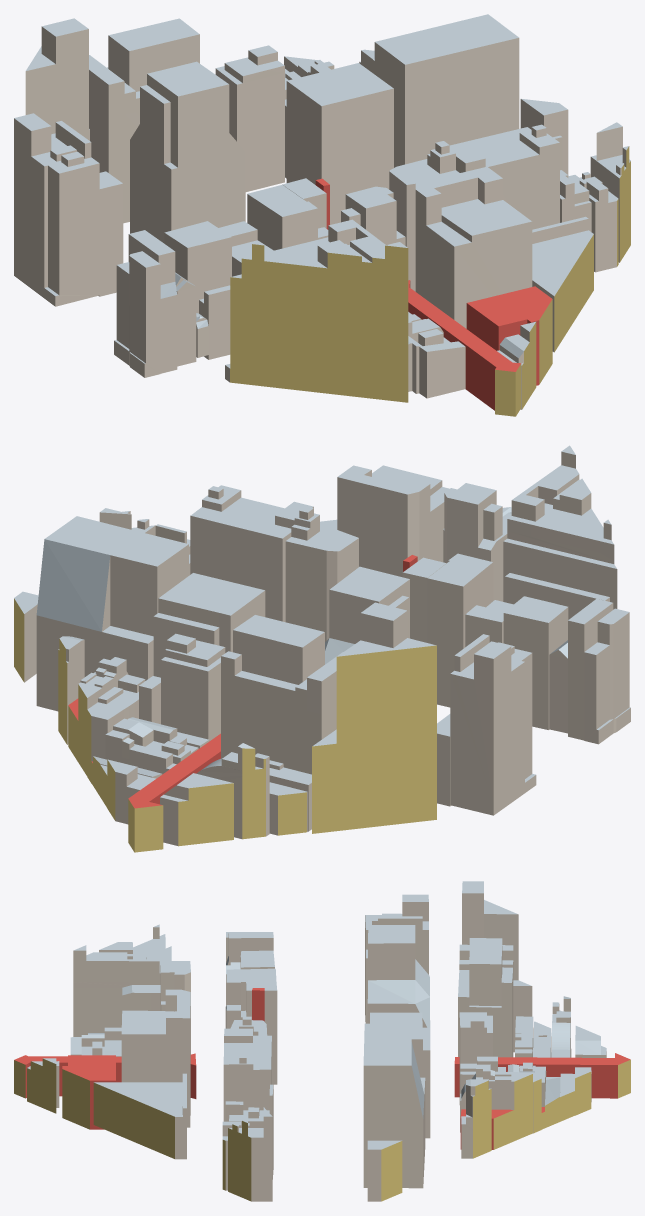
Rendered from dotonbori-focus.glb.
3 views of the same model, one above another, from view 1: azimuth 30°, elevation 25°; view 2: azimuth 150°, elevation 25°; view 3: azimuth 270°, elevation 25° (orthographic). The views are drawn at different scales.
Visible parts, largest first — view 1: B066 canal focus bldg_20a34d49-7e67-48bc-a3f4-12e5d8d8c5e1, B034 canal focus bldg_6b39f217-6938-46f4-be4f-b63dadaf6e73, B092 canal focus bldg_62a12ed7-ad07-4a43-8a33-c8720026bbaa, B036 canal focus bldg_e95a0f5f-11e1-46f8-b5da-37619d297fc4, B055 canal focus bldg_081a1c94-4b22-4245-b41d-bce24cdd94d1, B031 canal focus bldg_20d649b2-8ed9-4907-8d04-ad66a6952df4, B023 canal focus bldg_ee83e0d9-4ba0-4a72-bec8-c77447ef2a8e, B025 canal focus bldg_992fac86-aa37-4398-a10e-6850c9cac9f9, B049 canal focus bldg_855dffaa-1263-4a5f-bd07-8ed04eded429, B009 canal focus bldg_f7b7d534-49ca-4a79-b03a-08128ff697c0, B065 canal focus bldg_94780c64-d2d7-4e0b-b465-93a3429e6533, B039 canal focus bldg_23f218a7-b6c5-4dfc-a904-9f53dac5f742 (+20 smaller); view 2: B009 canal focus bldg_f7b7d534-49ca-4a79-b03a-08128ff697c0, B092 canal focus bldg_62a12ed7-ad07-4a43-8a33-c8720026bbaa, B023 canal focus bldg_ee83e0d9-4ba0-4a72-bec8-c77447ef2a8e, B036 canal focus bldg_e95a0f5f-11e1-46f8-b5da-37619d297fc4, B066 canal focus bldg_20a34d49-7e67-48bc-a3f4-12e5d8d8c5e1, B055 canal focus bldg_081a1c94-4b22-4245-b41d-bce24cdd94d1, B049 canal focus bldg_855dffaa-1263-4a5f-bd07-8ed04eded429, B046 canal focus bldg_bc4a46b3-c8b8-4921-b928-b880430f9d0a, B031 canal focus bldg_20d649b2-8ed9-4907-8d04-ad66a6952df4, B025 canal focus bldg_992fac86-aa37-4398-a10e-6850c9cac9f9, B040 canal focus bldg_dbb9aa26-307a-4437-9ae4-0bf14437c614, B045 canal focus bldg_1910ceab-f4fe-4995-ba10-79dcf616cf77 (+24 smaller); view 3: B092 canal focus bldg_62a12ed7-ad07-4a43-8a33-c8720026bbaa, B066 canal focus bldg_20a34d49-7e67-48bc-a3f4-12e5d8d8c5e1, B065 canal focus bldg_94780c64-d2d7-4e0b-b465-93a3429e6533, B055 canal focus bldg_081a1c94-4b22-4245-b41d-bce24cdd94d1, B023 canal focus bldg_ee83e0d9-4ba0-4a72-bec8-c77447ef2a8e, B034 canal focus bldg_6b39f217-6938-46f4-be4f-b63dadaf6e73, B049 canal focus bldg_855dffaa-1263-4a5f-bd07-8ed04eded429, B009 canal focus bldg_f7b7d534-49ca-4a79-b03a-08128ff697c0, B050 canal focus bldg_8cee6021-11a5-4653-8418-f12e6173b4cc, B001 canal focus bldg_05ec86aa-79f1-4aaa-8e93-0bf011542f99, B069 canal focus bldg_c657204f-1a56-4972-aba9-70ac9edc3226, B016 canal focus bldg_d589d364-22d5-4c9c-85c3-4416c222ec92 (+24 smaller).
Boxes of the visible parts, bbox=[...] form: B066 canal focus bldg_20a34d49-7e67-48bc-a3f4-12e5d8d8c5e1: bbox=[225, 219, 408, 402]; B034 canal focus bldg_6b39f217-6938-46f4-be4f-b63dadaf6e73: bbox=[130, 61, 245, 243]; B092 canal focus bldg_62a12ed7-ad07-4a43-8a33-c8720026bbaa: bbox=[374, 14, 519, 167]; B036 canal focus bldg_e95a0f5f-11e1-46f8-b5da-37619d297fc4: bbox=[14, 113, 99, 306]; B055 canal focus bldg_081a1c94-4b22-4245-b41d-bce24cdd94d1: bbox=[415, 167, 532, 328]; B031 canal focus bldg_20d649b2-8ed9-4907-8d04-ad66a6952df4: bbox=[286, 63, 393, 224]; B023 canal focus bldg_ee83e0d9-4ba0-4a72-bec8-c77447ef2a8e: bbox=[89, 18, 199, 223]; B025 canal focus bldg_992fac86-aa37-4398-a10e-6850c9cac9f9: bbox=[215, 45, 284, 191]; B049 canal focus bldg_855dffaa-1263-4a5f-bd07-8ed04eded429: bbox=[449, 124, 559, 229]; B009 canal focus bldg_f7b7d534-49ca-4a79-b03a-08128ff697c0: bbox=[25, 18, 89, 140]; B065 canal focus bldg_94780c64-d2d7-4e0b-b465-93a3429e6533: bbox=[532, 216, 593, 352]; B039 canal focus bldg_23f218a7-b6c5-4dfc-a904-9f53dac5f742: bbox=[164, 221, 231, 359]; B009 canal focus bldg_f7b7d534-49ca-4a79-b03a-08128ff697c0: bbox=[312, 602, 436, 833]; B092 canal focus bldg_62a12ed7-ad07-4a43-8a33-c8720026bbaa: bbox=[36, 516, 188, 711]; B023 canal focus bldg_ee83e0d9-4ba0-4a72-bec8-c77447ef2a8e: bbox=[221, 615, 342, 774]; B036 canal focus bldg_e95a0f5f-11e1-46f8-b5da-37619d297fc4: bbox=[450, 634, 536, 815]; B066 canal focus bldg_20a34d49-7e67-48bc-a3f4-12e5d8d8c5e1: bbox=[503, 445, 617, 619]; B055 canal focus bldg_081a1c94-4b22-4245-b41d-bce24cdd94d1: bbox=[337, 465, 449, 577]; B049 canal focus bldg_855dffaa-1263-4a5f-bd07-8ed04eded429: bbox=[190, 485, 313, 622]; B046 canal focus bldg_bc4a46b3-c8b8-4921-b928-b880430f9d0a: bbox=[285, 506, 358, 641]; B031 canal focus bldg_20d649b2-8ed9-4907-8d04-ad66a6952df4: bbox=[153, 573, 265, 677]; B025 canal focus bldg_992fac86-aa37-4398-a10e-6850c9cac9f9: bbox=[161, 633, 225, 741]; B040 canal focus bldg_dbb9aa26-307a-4437-9ae4-0bf14437c614: bbox=[427, 553, 493, 707]; B045 canal focus bldg_1910ceab-f4fe-4995-ba10-79dcf616cf77: bbox=[584, 608, 630, 744]; B092 canal focus bldg_62a12ed7-ad07-4a43-8a33-c8720026bbaa: bbox=[363, 1023, 425, 1188]; B066 canal focus bldg_20a34d49-7e67-48bc-a3f4-12e5d8d8c5e1: bbox=[73, 924, 171, 1036]; B065 canal focus bldg_94780c64-d2d7-4e0b-b465-93a3429e6533: bbox=[93, 1073, 186, 1159]; B055 canal focus bldg_081a1c94-4b22-4245-b41d-bce24cdd94d1: bbox=[121, 989, 190, 1127]; B023 canal focus bldg_ee83e0d9-4ba0-4a72-bec8-c77447ef2a8e: bbox=[458, 938, 513, 1057]; B034 canal focus bldg_6b39f217-6938-46f4-be4f-b63dadaf6e73: bbox=[367, 925, 430, 1027]; B049 canal focus bldg_855dffaa-1263-4a5f-bd07-8ed04eded429: bbox=[223, 1028, 271, 1121]; B009 canal focus bldg_f7b7d534-49ca-4a79-b03a-08128ff697c0: bbox=[462, 881, 532, 1052]; B050 canal focus bldg_8cee6021-11a5-4653-8418-f12e6173b4cc: bbox=[228, 1107, 272, 1201]; B001 canal focus bldg_05ec86aa-79f1-4aaa-8e93-0bf011542f99: bbox=[454, 1053, 630, 1098]; B069 canal focus bldg_c657204f-1a56-4972-aba9-70ac9edc3226: bbox=[62, 1055, 115, 1129]; B016 canal focus bldg_d589d364-22d5-4c9c-85c3-4416c222ec92: bbox=[461, 1064, 532, 1140].
Bounding box in the file's own units: 149 × 58.33 × 204.
